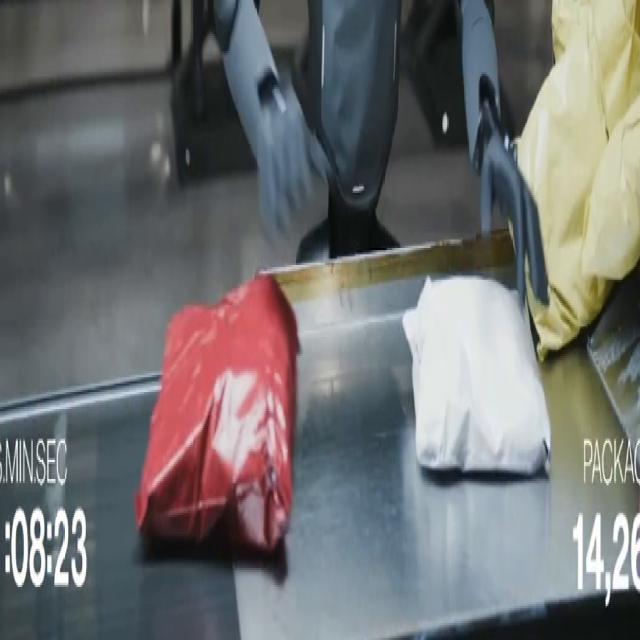package: (135, 276, 299, 550), (518, 0, 639, 360), (403, 276, 551, 474), (583, 94, 639, 281)
